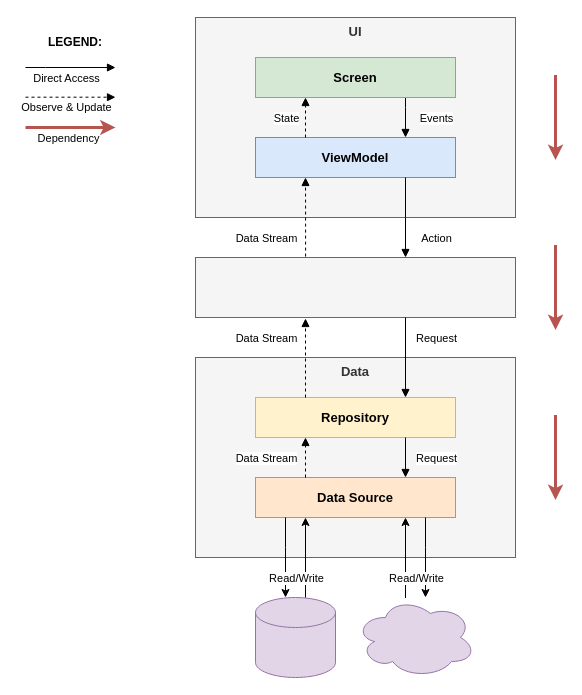
Image size: 582x695. Some labels were removed from this diagram. The centre of each missing label's shape, as x and y in pixels:
"Database" belongs at (x=295, y=637).
"Domain" belongs at (x=355, y=287).
"Network" belongs at (x=415, y=637).
